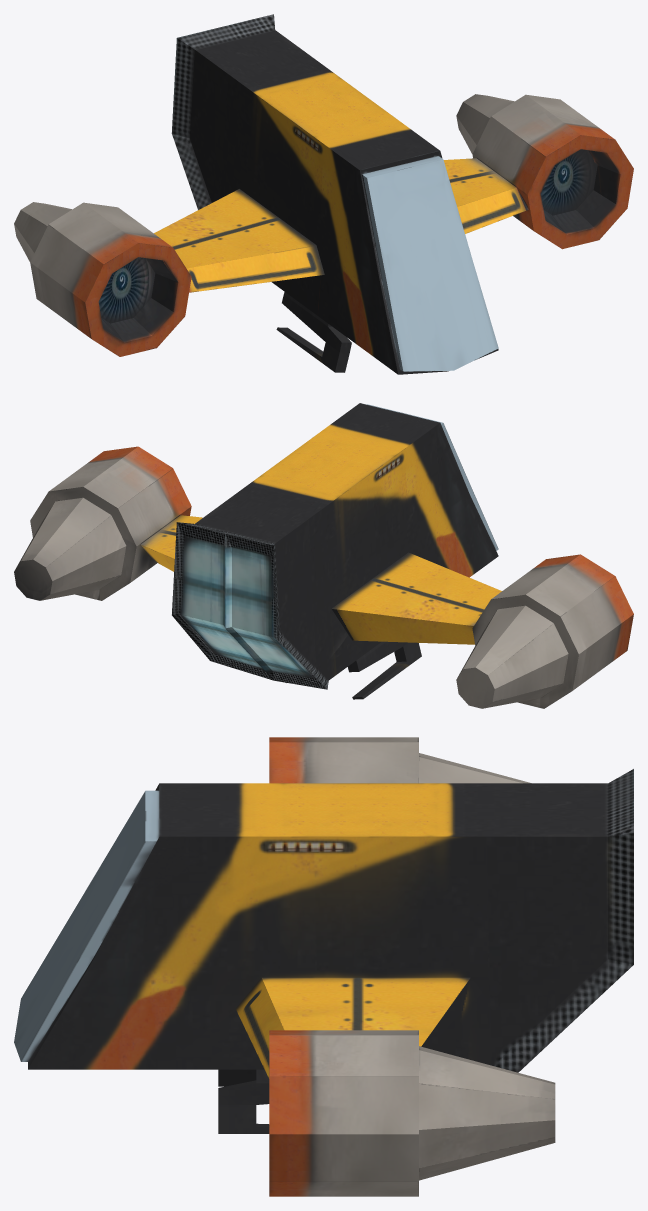
File: nave_text.obj
The picture shows the model from 3 angles, top to bottom: view 1: azimuth 30°, elevation 25°; view 2: azimuth 150°, elevation 25°; view 3: azimuth 270°, elevation 25°; orthographic projection. The views are drawn at different scales.
Parts seen in each view (by area): view 1: nave_Cubo_Material.001; view 2: nave_Cubo_Material.001; view 3: nave_Cubo_Material.001.
Part boxes in pixels (x1=…): nave_Cubo_Material.001: x1=14, y1=14, x2=633, y2=374; nave_Cubo_Material.001: x1=14, y1=403, x2=633, y2=708; nave_Cubo_Material.001: x1=14, y1=737, x2=633, y2=1196.
Size of the model in its own units: 6.55 by 2.58 by 4.72.
